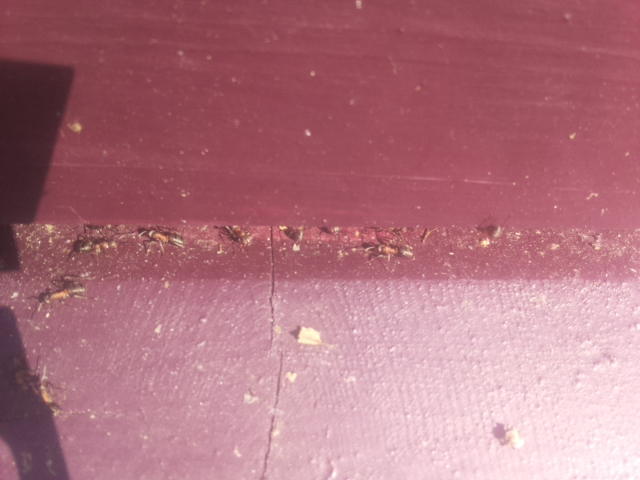ant: (21, 364, 70, 417), (131, 225, 191, 251), (358, 239, 418, 263), (486, 419, 529, 452), (44, 277, 92, 306), (224, 226, 252, 246)
